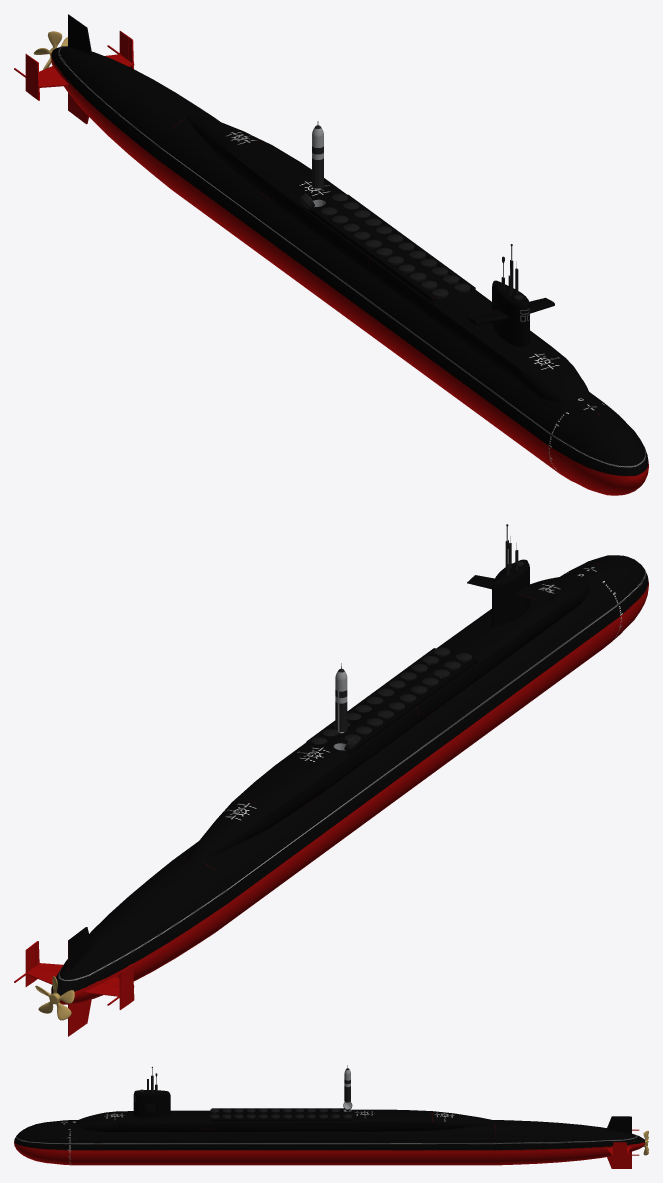
The picture shows the model from 3 angles, top to bottom: view 1: azimuth 30°, elevation 25°; view 2: azimuth 150°, elevation 25°; view 3: azimuth 270°, elevation 25°; orthographic projection. The views are drawn at different scales.
Visible parts, largest first — view 1: submarine, polySurface1, tower, pCube231, left_silos_covers, right_silos_covers, trident_missile; view 2: submarine, polySurface1, tower, pCube231, right_silos_covers, left_silos_covers, trident_missile, turbine; view 3: submarine, polySurface1, tower, pCube231, left_silos_covers, right_silos_covers, pCube240, trident_missile, pCube248.
Boxes of the visible parts, x1,y1,x2,y2 form: submarine: (51, 46, 648, 495); polySurface1: (187, 114, 589, 402); tower: (492, 280, 529, 347); pCube231: (304, 194, 475, 302); left_silos_covers: (332, 193, 470, 292); right_silos_covers: (321, 207, 448, 298); trident_missile: (312, 125, 323, 188); submarine: (51, 555, 648, 1004); polySurface1: (187, 576, 589, 861); tower: (492, 559, 529, 626); pCube231: (306, 648, 477, 754); right_silos_covers: (344, 653, 471, 741); left_silos_covers: (311, 647, 450, 744); trident_missile: (335, 669, 347, 731); turbine: (35, 976, 74, 1020); submarine: (14, 1120, 644, 1165); polySurface1: (76, 1109, 498, 1131); tower: (133, 1090, 170, 1117); pCube231: (211, 1108, 350, 1121); left_silos_covers: (210, 1114, 352, 1118); right_silos_covers: (210, 1108, 339, 1113); pCube240: (616, 1116, 631, 1133); trident_missile: (344, 1068, 350, 1102); pCube248: (617, 1142, 626, 1162).
Bounding box in the file's own units: 0.013 × 0.0244 × 0.1372.
Materials: 2 (2 with a texture image).
